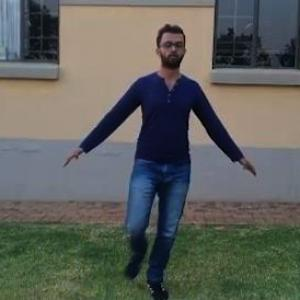land: (56, 3, 245, 284)
